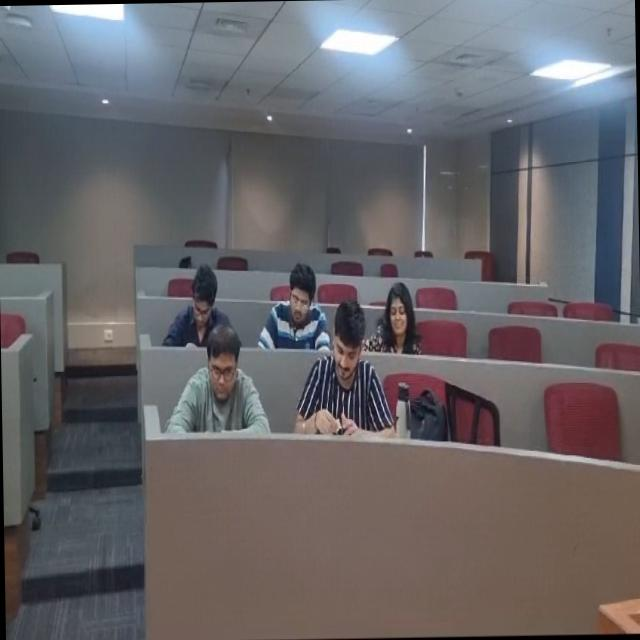cheating: (302, 301, 390, 441), (185, 333, 259, 438)
non-cheating: (157, 256, 236, 349), (256, 256, 332, 352), (368, 270, 432, 359)
